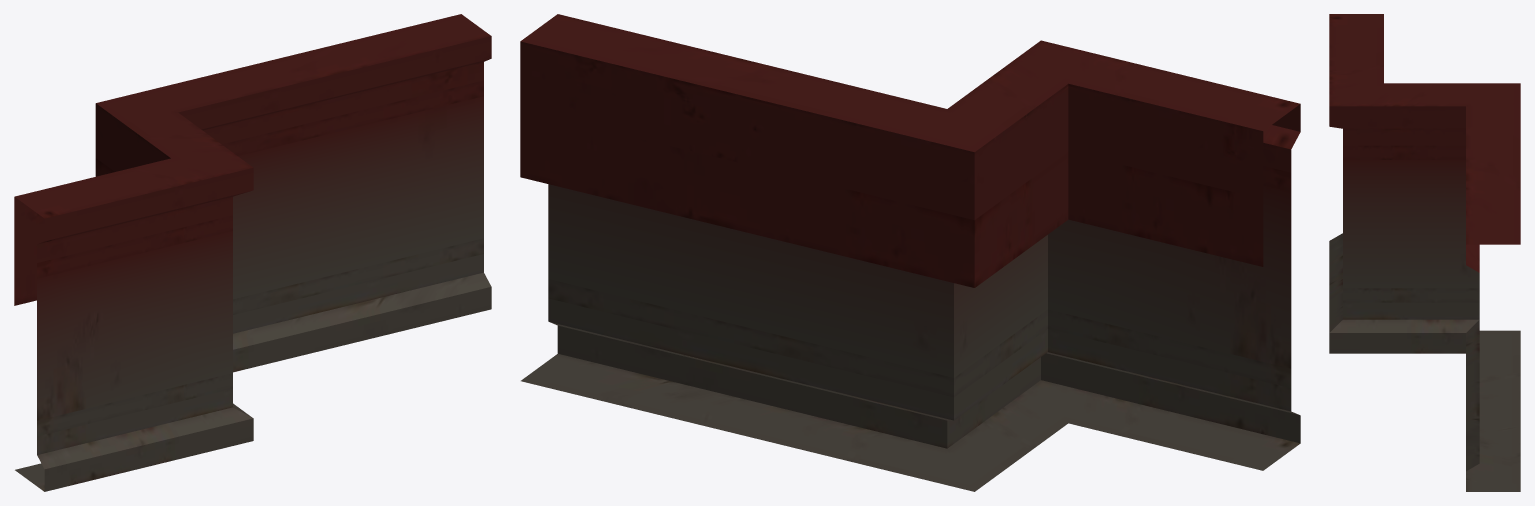
Rendered from Cornice_Metal_90Angle_L.glb.
3 renders of one model, left to right at view 1: azimuth 30°, elevation 25°; view 2: azimuth 150°, elevation 25°; view 3: azimuth 270°, elevation 25°, orthographic. The views are drawn at different scales.
Parts seen in each view (by area): view 1: Cornice_Metal_90Angle_L; view 2: Cornice_Metal_90Angle_L; view 3: Cornice_Metal_90Angle_L.
Boxes of the visible parts, box(x1,y1,x2,y2) form: Cornice_Metal_90Angle_L: box(14, 14, 491, 491); Cornice_Metal_90Angle_L: box(520, 14, 1300, 491); Cornice_Metal_90Angle_L: box(1329, 14, 1520, 491).
Bounding box in the file's own units: 2 × 1 × 0.7.
1 material, 1 textured.
